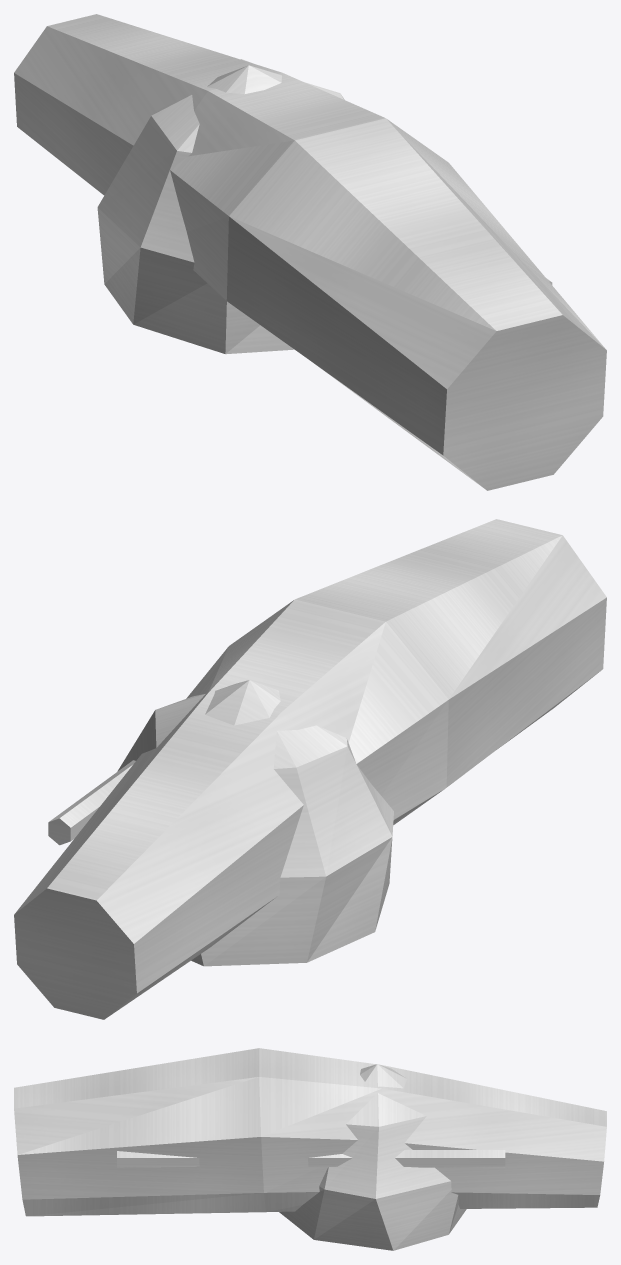
The model's file is warwalker_leg.obj.
The picture shows the model from 3 angles, top to bottom: view 1: azimuth 30°, elevation 25°; view 2: azimuth 150°, elevation 25°; view 3: azimuth 270°, elevation 25°; orthographic projection. The views are drawn at different scales.
Parts seen in each view (by area): view 1: warwalker_leg; view 2: warwalker_leg; view 3: warwalker_leg.
Part boxes in pixels (bbox=[...]): warwalker_leg: bbox=[14, 14, 606, 490]; warwalker_leg: bbox=[14, 519, 606, 1019]; warwalker_leg: bbox=[14, 1048, 606, 1250].
Size of the model in its own units: 1.23 by 1.01 by 3.67.
